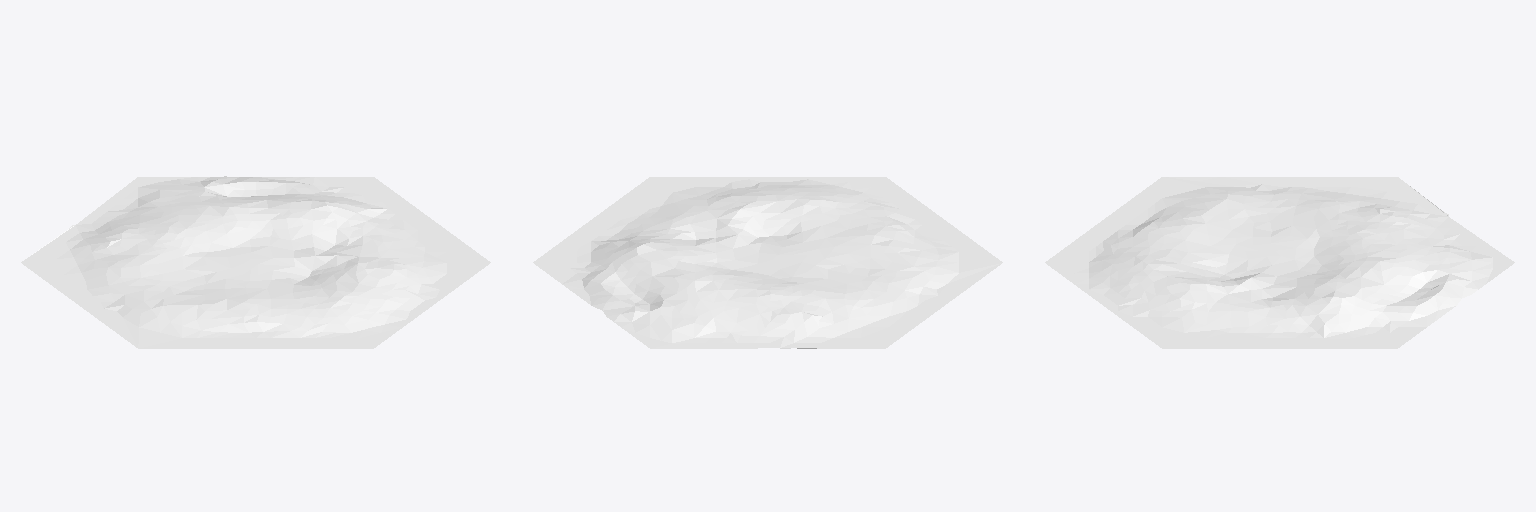
Rendered from Hills 2.obj.
3 renders of one model, left to right at view 1: azimuth 30°, elevation 25°; view 2: azimuth 150°, elevation 25°; view 3: azimuth 270°, elevation 25°, orthographic.
Visible parts, largest first — view 1: Hills 2; view 2: Hills 2; view 3: Hills 2.
Part boxes in pixels (bbox=[...]): Hills 2: bbox=[21, 176, 490, 348]; Hills 2: bbox=[533, 177, 1002, 348]; Hills 2: bbox=[1045, 177, 1514, 348].
Bounding box in the file's own units: 158 × 6.26 × 183.